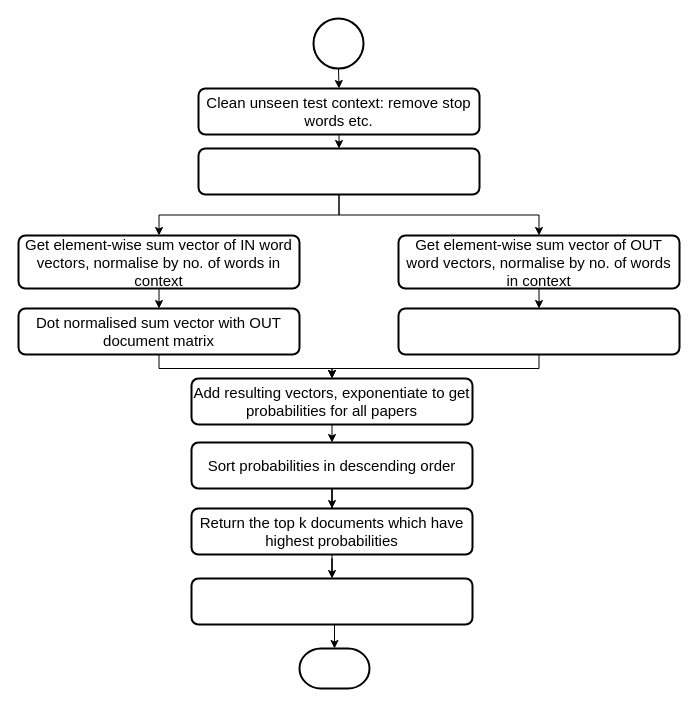
This 697x706 diagram has some shape labels left out. Here are the shapes that lost their labels. From the top down, the centre of each, then its label:
At (x=338, y=171): "Get word vectors from trained model's vocab for words in context".
At (x=538, y=331): "Dot normalised sum vector with IN document matrix".
At (x=331, y=601): "Get the metadata for the recommended documents from MAG".
